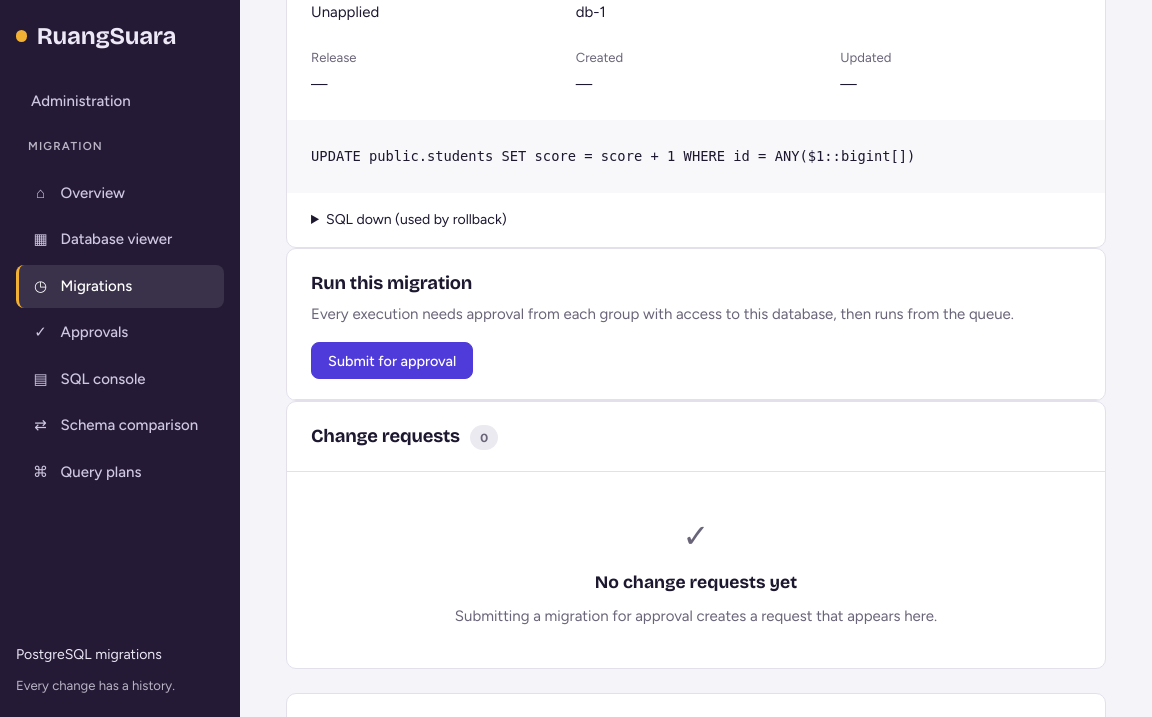
Asynchronous migration submission › displays invalid batch configuration returned by the backend
(page scrolled)
Click the button "Submit for approval". click: click(392, 361)
box: left=311, top=342, right=473, bottom=379
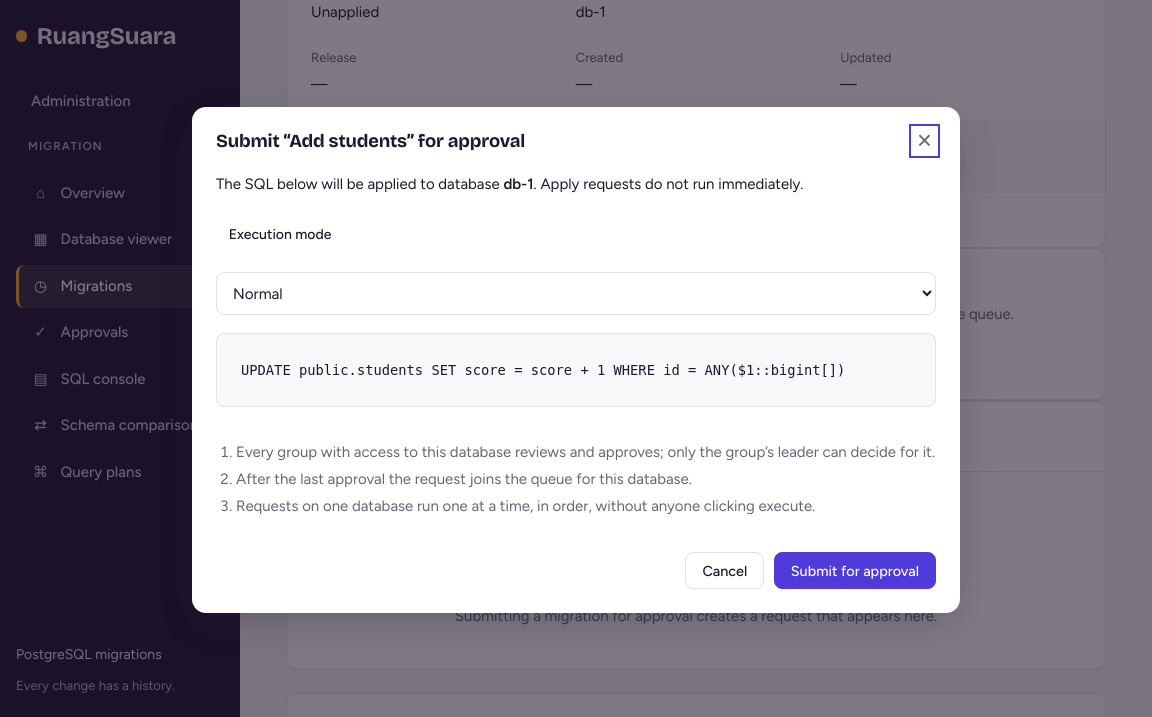
Select "Batch" in the dropdown labelled "Execution mode". click: (576, 294)
box: left=216, top=272, right=936, bottom=315
(page scrolled)
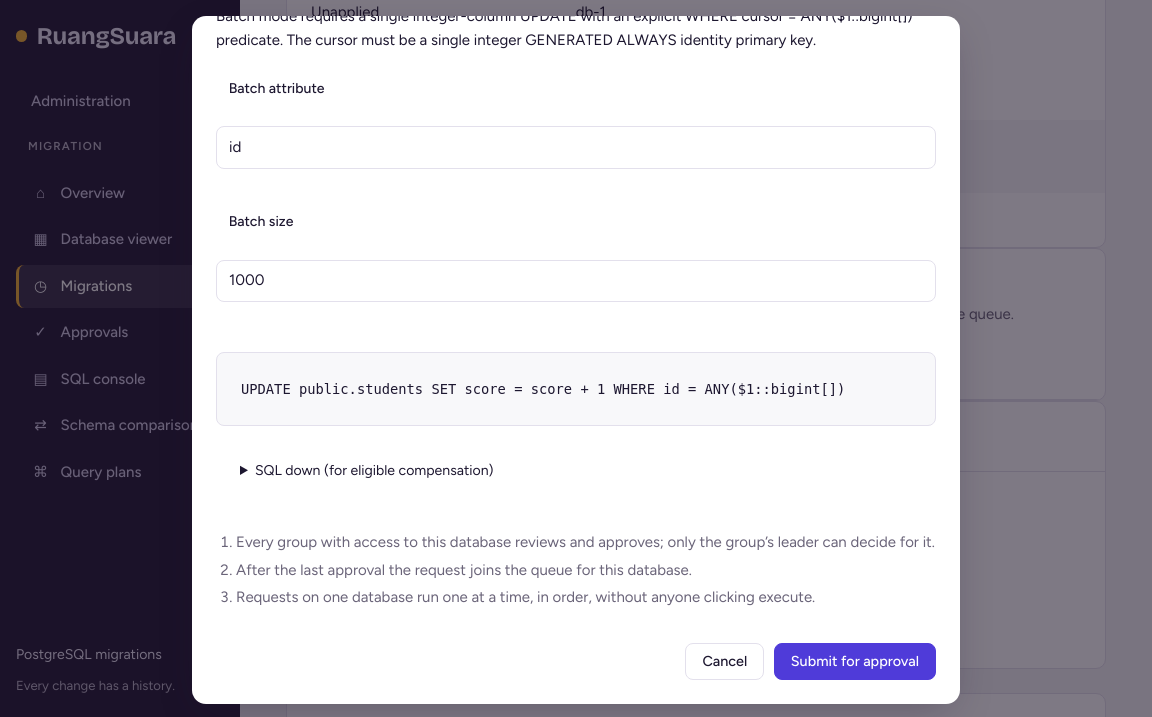
Click the button "Submit for approval". click: click(855, 661)
box: left=774, top=643, right=936, bottom=680
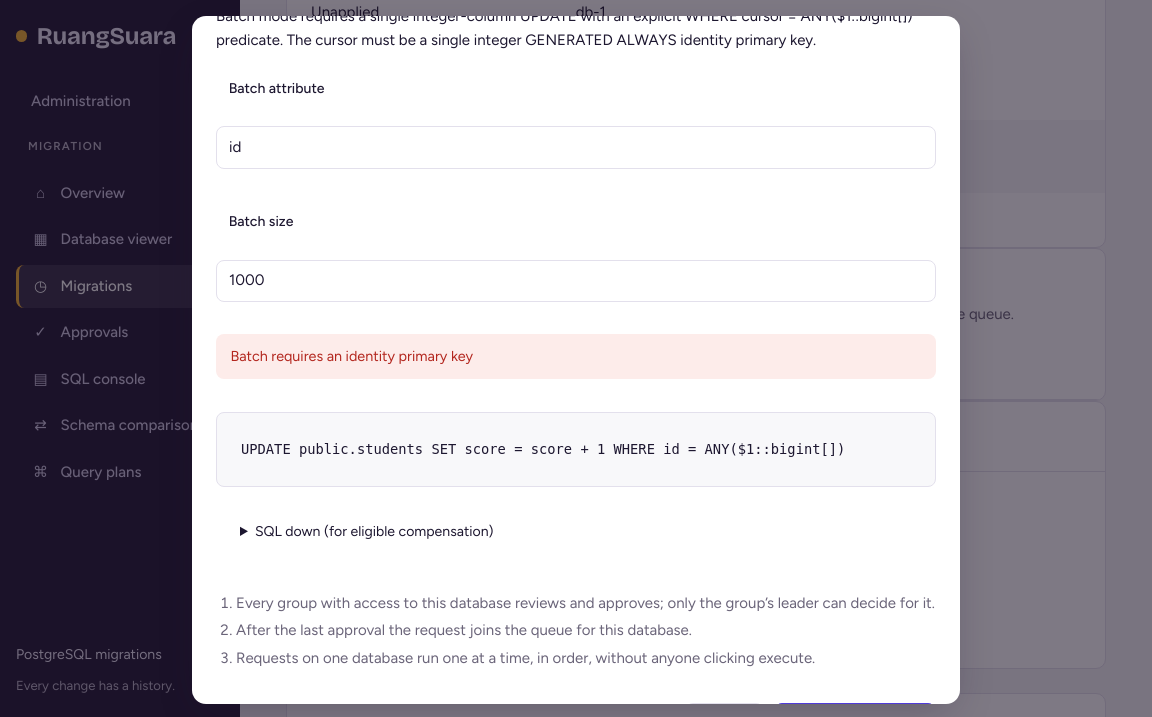
Expected: the message reads "Batch requires an identity primary key", left=230, top=347, right=473, bottom=365
